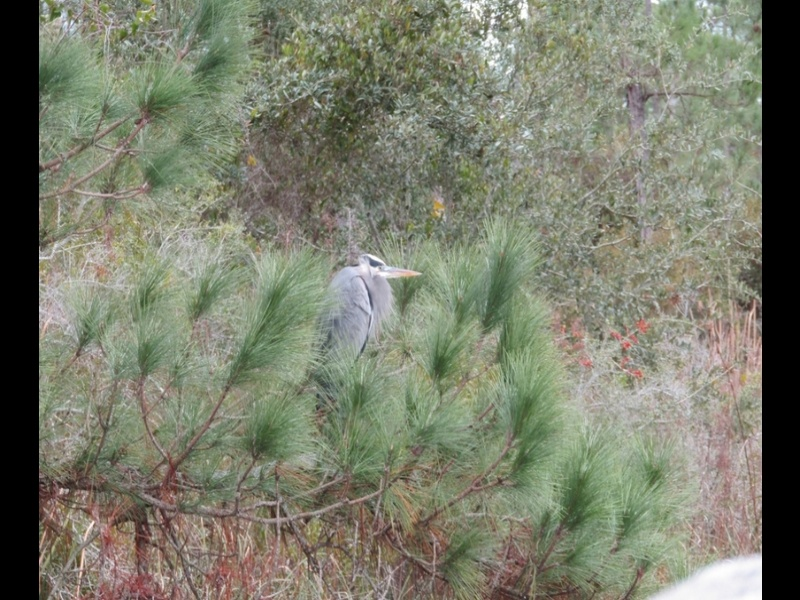heron: (302, 249, 425, 425)
